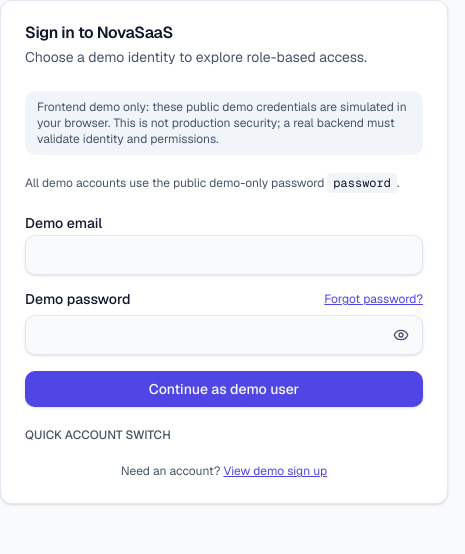
it: LoginForm › shows one generic credential error after a failed login
Type "unknown@example.com" into the field labelled "Demo email".
click(224, 255); type("unknown@example.com")  # box [25, 235, 423, 275]
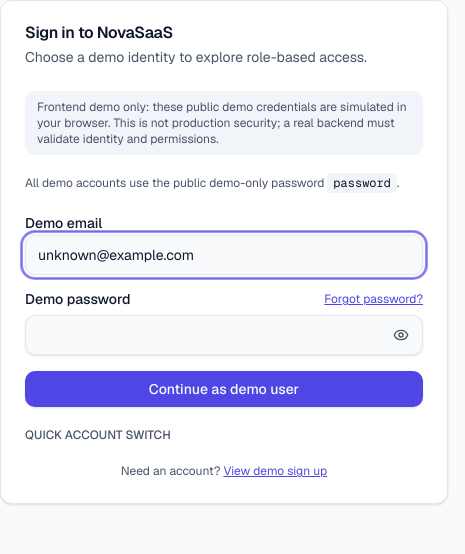
Type "incorrect" into the password field labelled "Demo password".
click(224, 335); type("incorrect")  # box [25, 315, 423, 355]
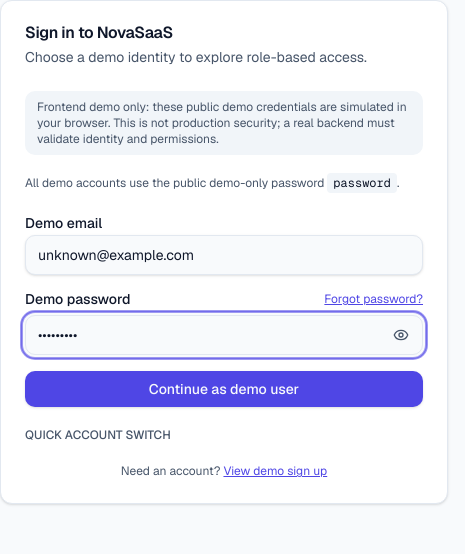
Click the button "Continue as demo user".
click(224, 389)  # box [25, 371, 423, 407]
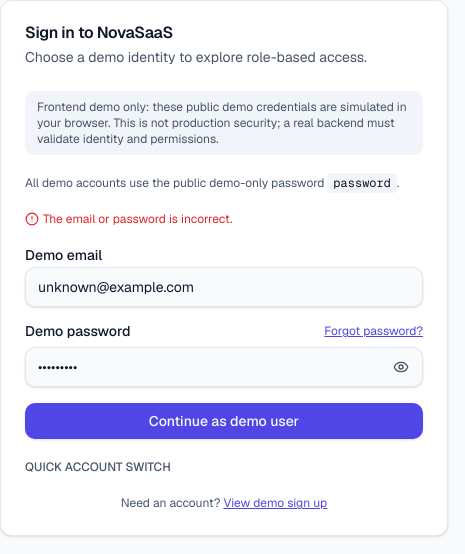
Result: the text "The email or password is incorrect." is shown once at [25, 211, 232, 227]
